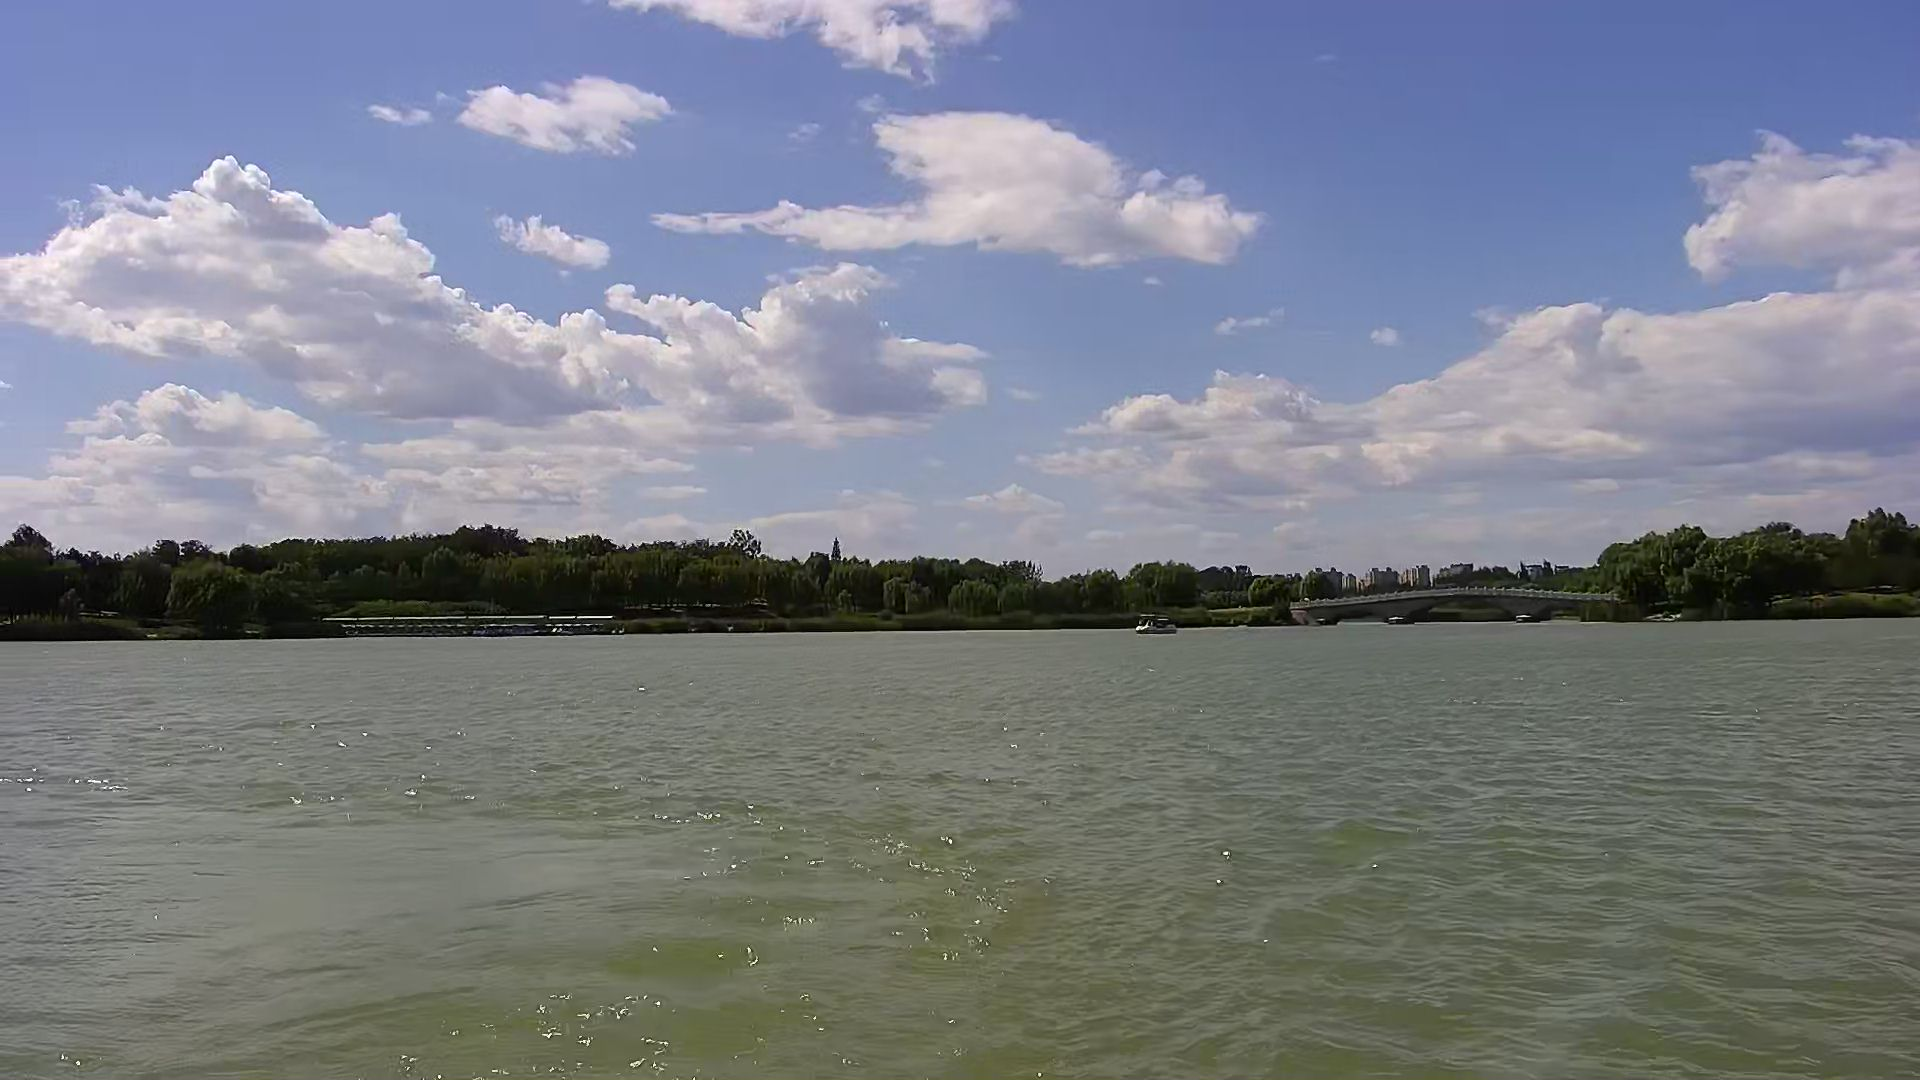boat: (1129, 613, 1182, 632)
bridge: (1292, 588, 1629, 626), (335, 617, 618, 636)
